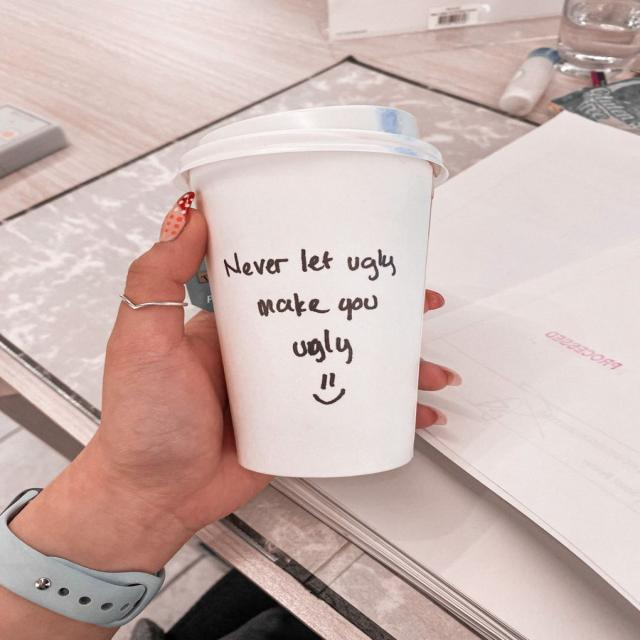paper cup: (176, 104, 446, 476)
